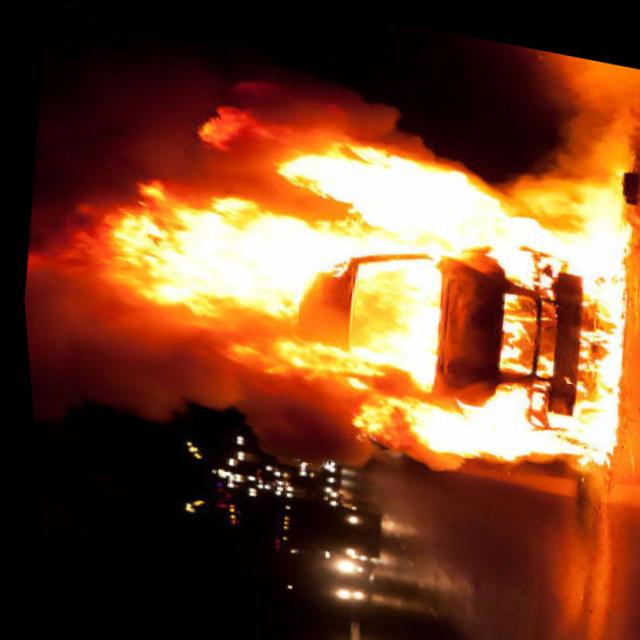Fire: (106, 54, 640, 500)
